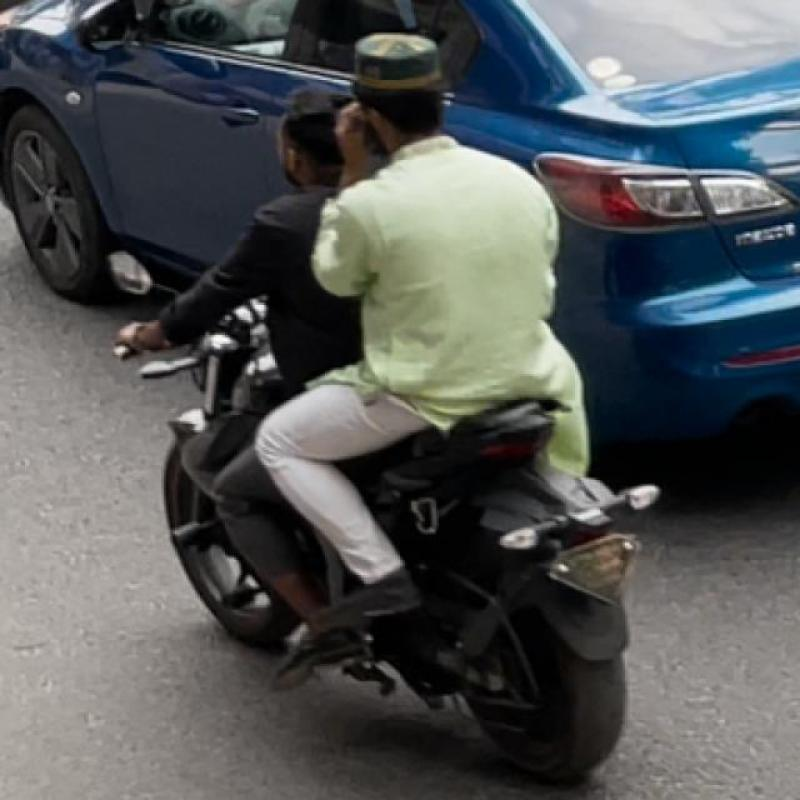nohelmet: (312, 0, 453, 154)
